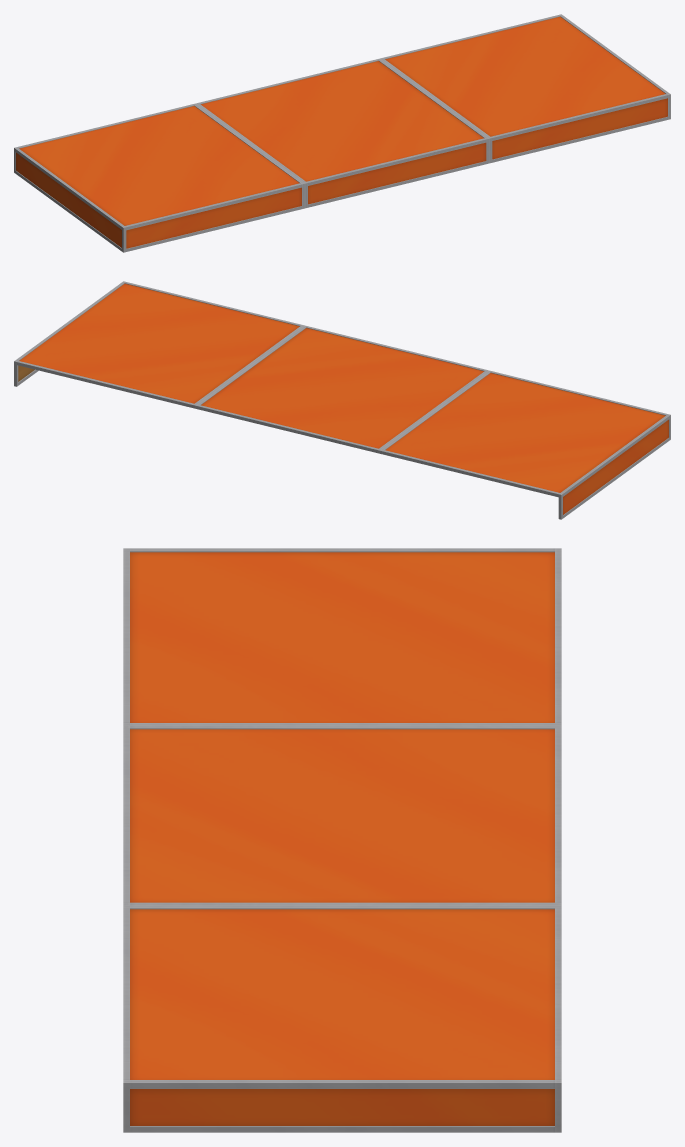
The model's file is jsf_2P_s03_c01_t01_DX.fbx.
3 renders of one model, top to bottom at view 1: azimuth 30°, elevation 25°; view 2: azimuth 150°, elevation 25°; view 3: azimuth 270°, elevation 25°, orthographic. The views are drawn at different scales.
Parts seen in each view (by area): view 1: jsf_2P_s03_c01_t01_DX; view 2: jsf_2P_s03_c01_t01_DX; view 3: jsf_2P_s03_c01_t01_DX.
Boxes of the visible parts, <box> form: jsf_2P_s03_c01_t01_DX: <box>14,14,670,252</box>; jsf_2P_s03_c01_t01_DX: <box>14,281,670,519</box>; jsf_2P_s03_c01_t01_DX: <box>123,548,561,1132</box>.
Size of the model in its own units: 289 by 12.51 by 100.
